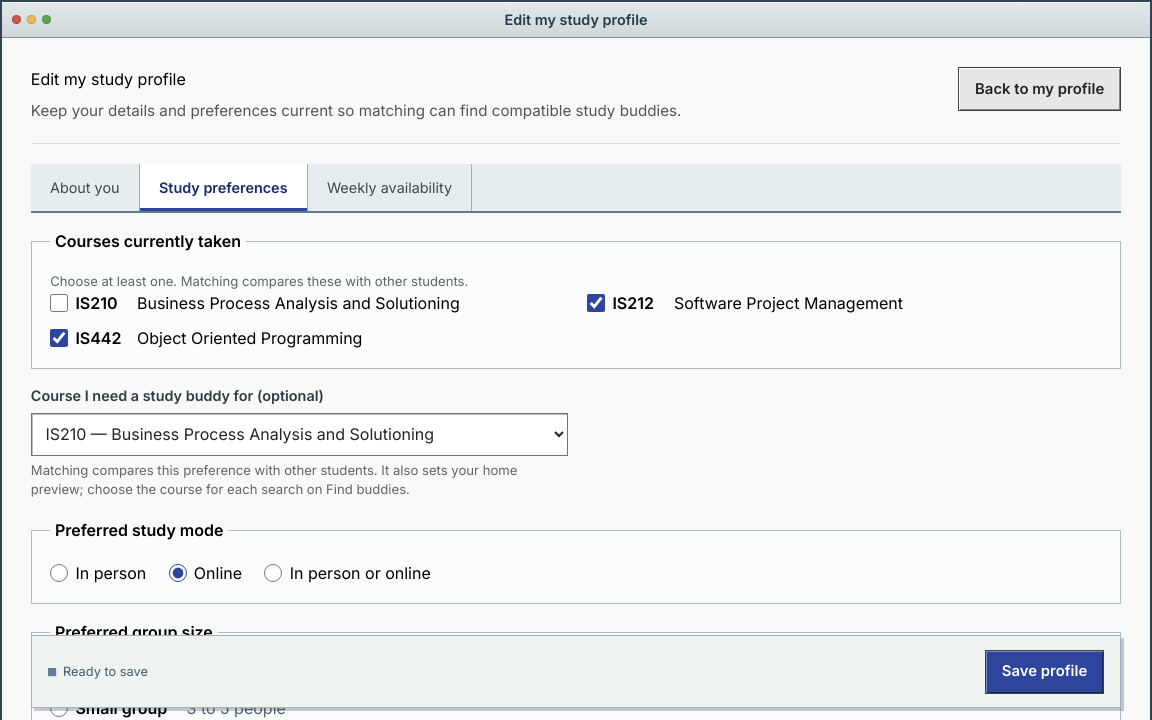
edit study profile › sends the whole profile and shows a server field error next to its field
This screenshot has width=1152, height=720.
Click the checkbox labelled "IS210 Business Process Analysis and Solutioning" at (59, 303), box [50,294,68,312]
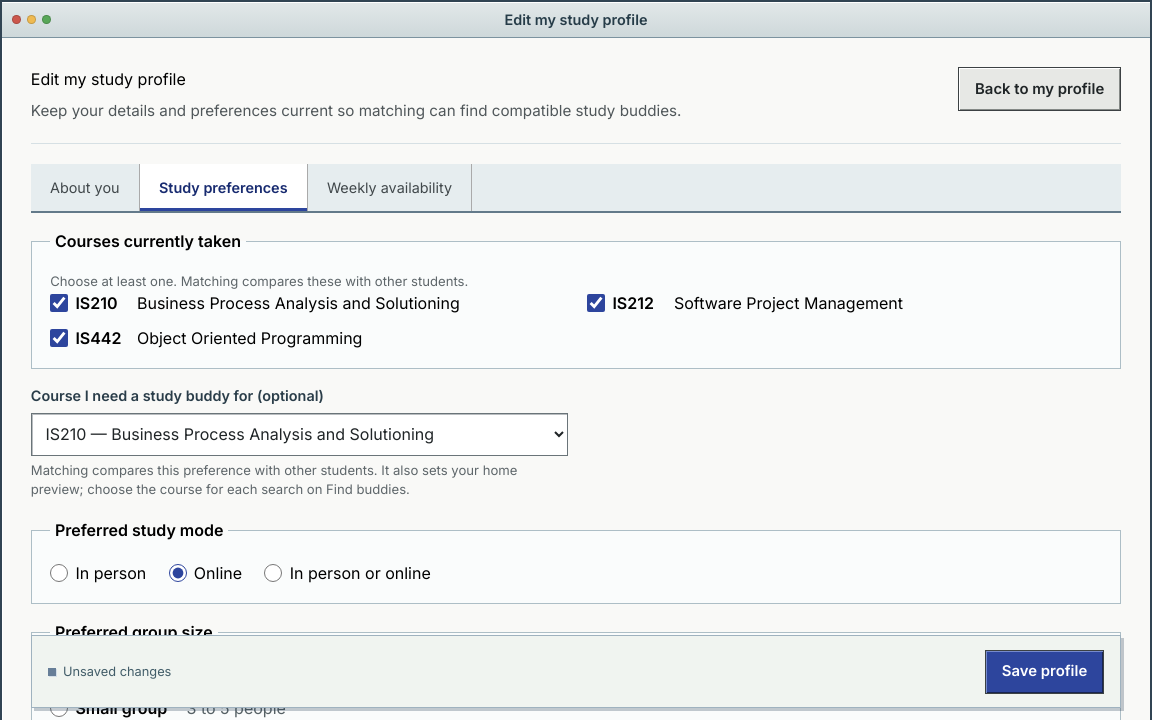
Click the button "Save profile" at (1045, 671), box [985,649,1104,693]
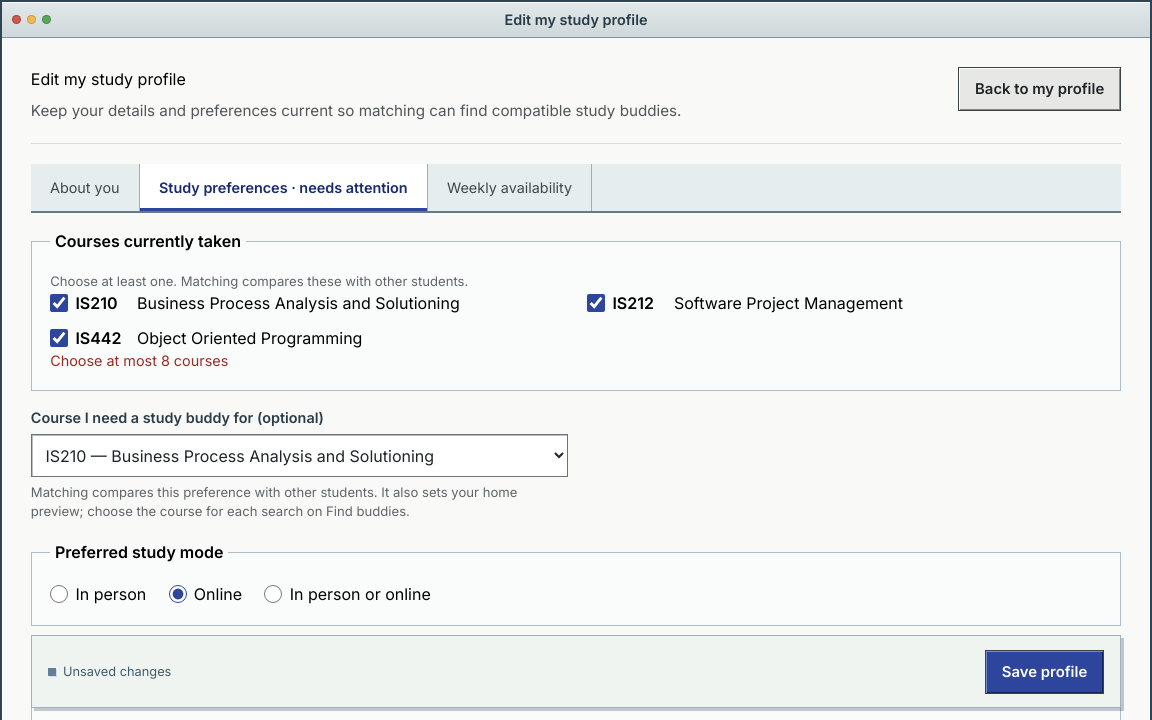
Now the text "Choose at most 8 courses" is shown, box [50,352,228,369]
